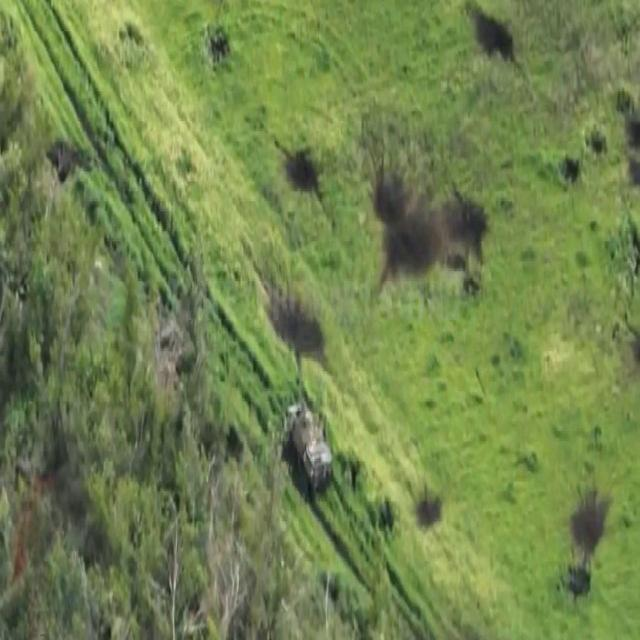APC: (285, 391, 336, 508)
